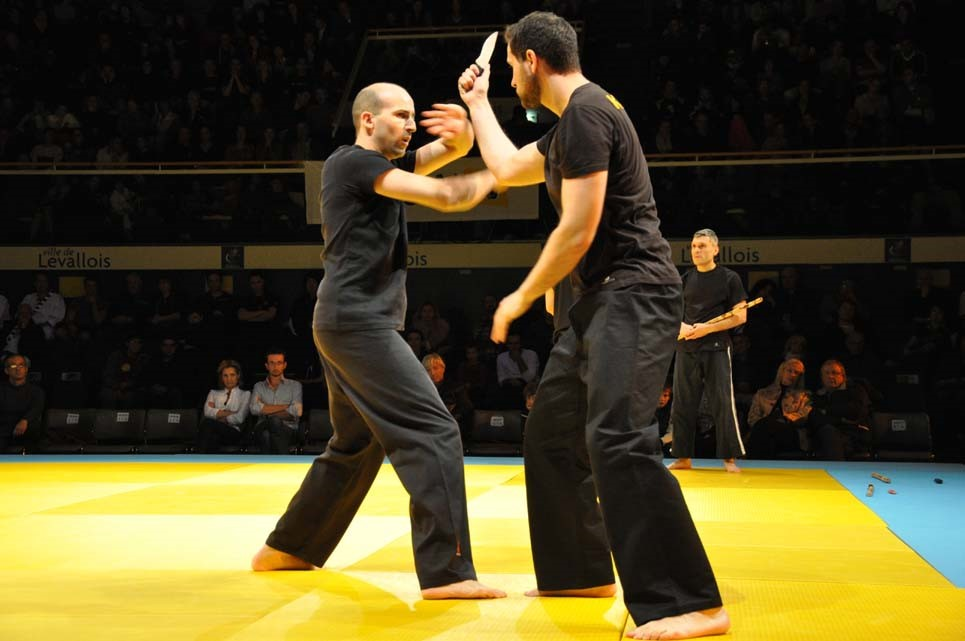baston_e: (679, 295, 760, 340)
baston_v: (758, 295, 764, 303)
